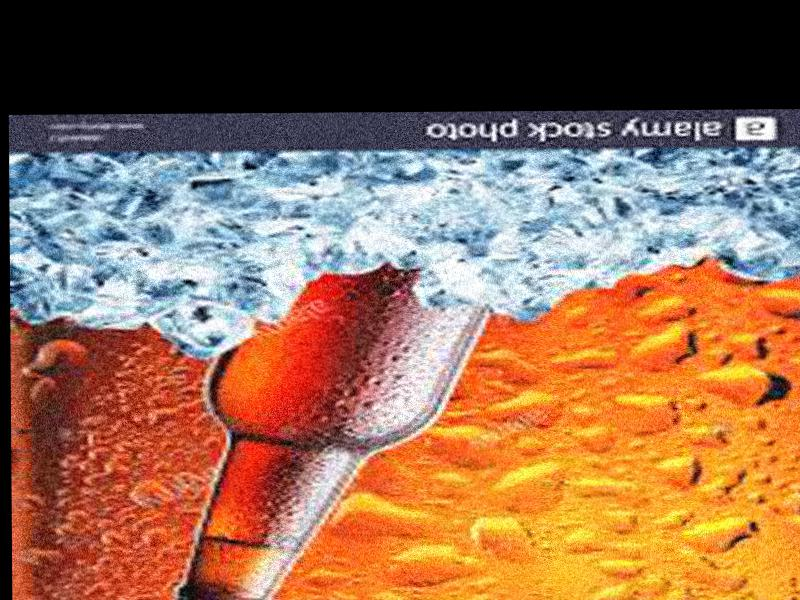Beer: (143, 260, 487, 600)
